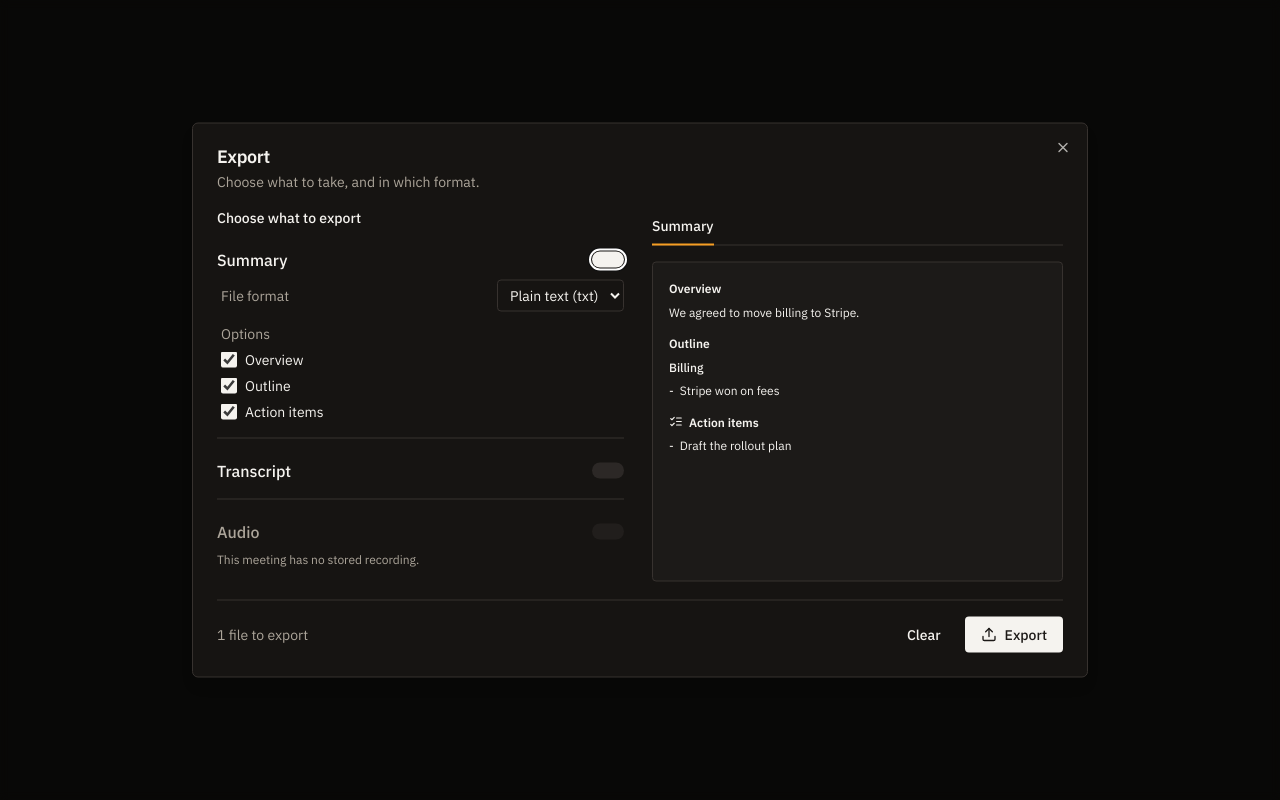
Test: ExportDialog preview › drops a section from the preview the moment it is unticked
Click the checkbox labelled "Outline". click: point(229, 386)
box: [221, 378, 237, 394]
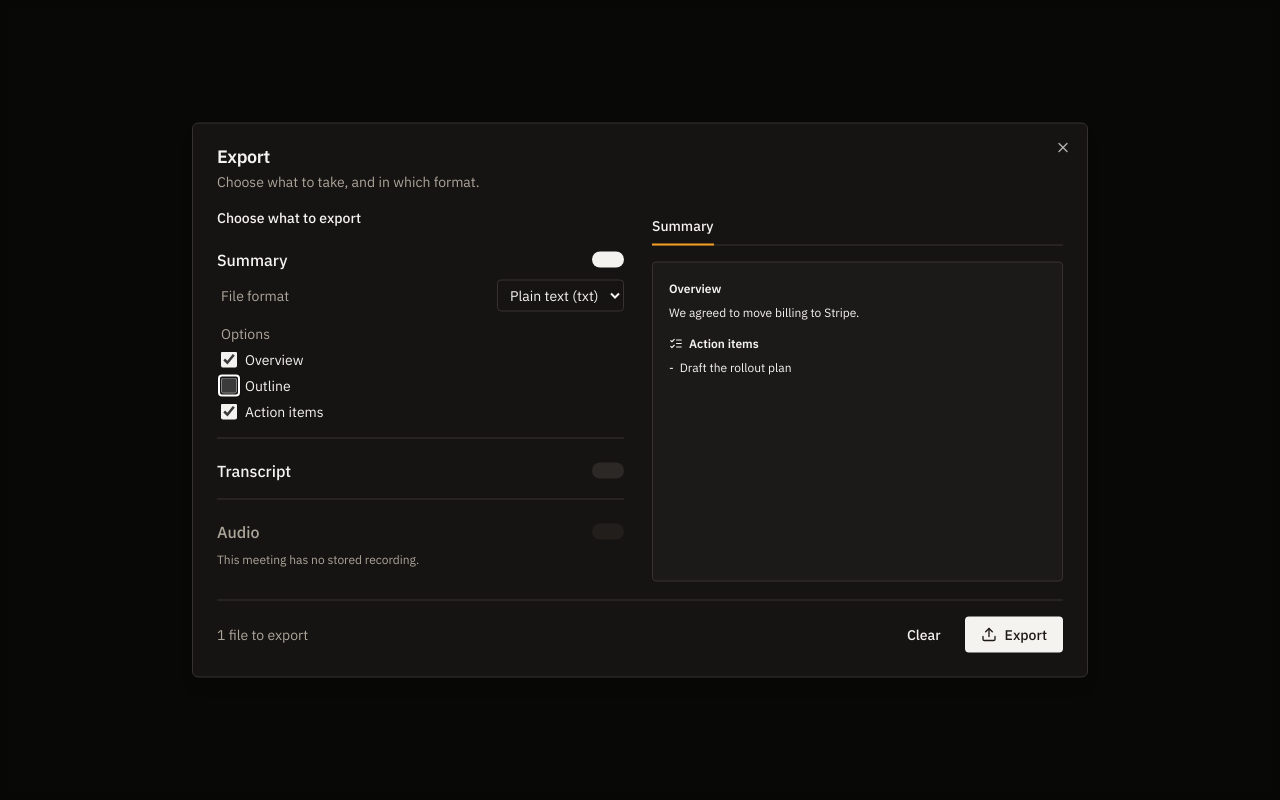
Expected: the text "We agreed to move billing to Stripe." is shown, [669, 304, 859, 319]
Expected: the text "Stripe won on fees" is gone
